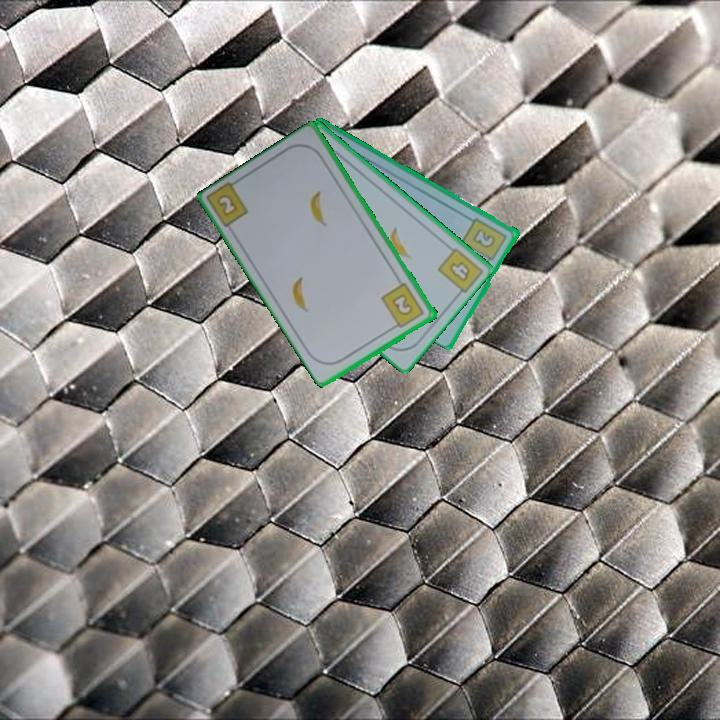2b: (459, 214, 510, 267), (378, 279, 427, 332), (213, 191, 241, 219)
4b: (446, 258, 474, 285)
